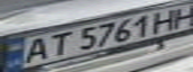1: (130, 12, 157, 38)
5: (75, 25, 100, 52)
6: (115, 16, 139, 43)
7: (93, 20, 118, 47)
A: (15, 35, 54, 64)
H: (145, 7, 187, 34), (166, 3, 193, 29)
T: (39, 30, 75, 57)
